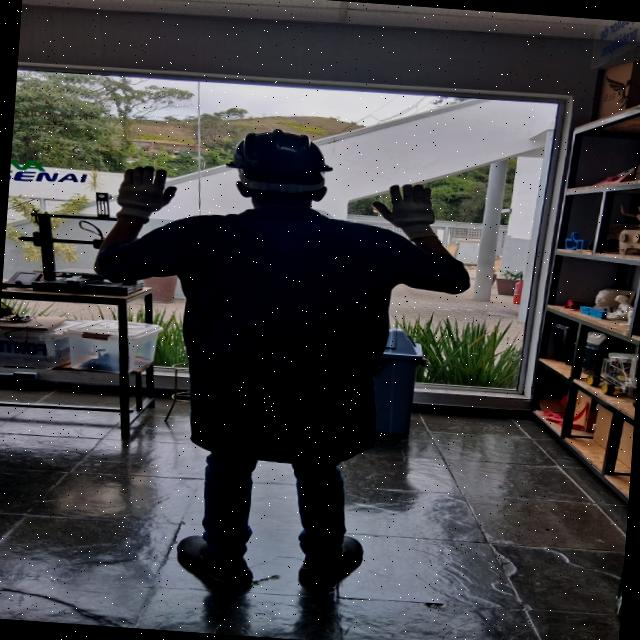BOTA: (172, 532, 256, 586), (293, 531, 364, 580)
CAPACETE: (224, 129, 334, 193)
JALECO: (93, 203, 469, 466)
LUVA: (108, 165, 178, 225), (369, 184, 438, 242)
